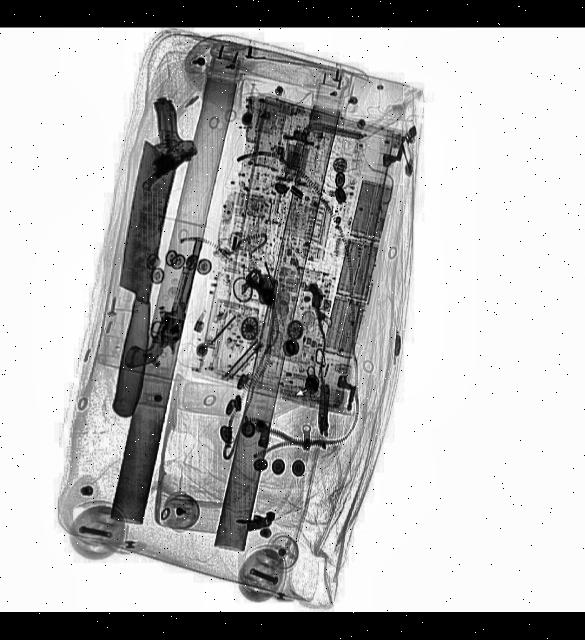Gun: (122, 230, 204, 381), (101, 94, 206, 198)
Knife: (95, 141, 182, 420)
